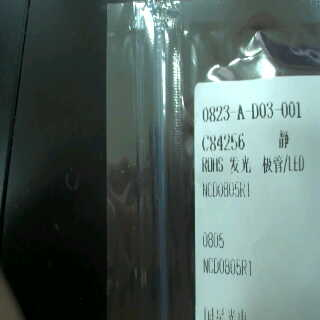LED: (227, 152, 305, 176)
